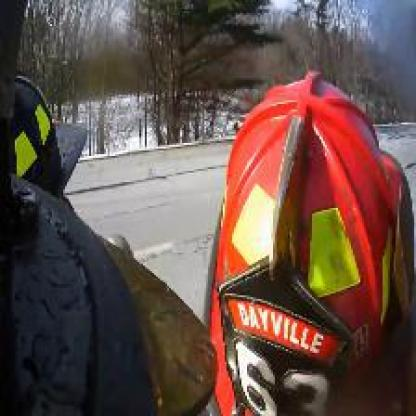other: (195, 74, 400, 355)
